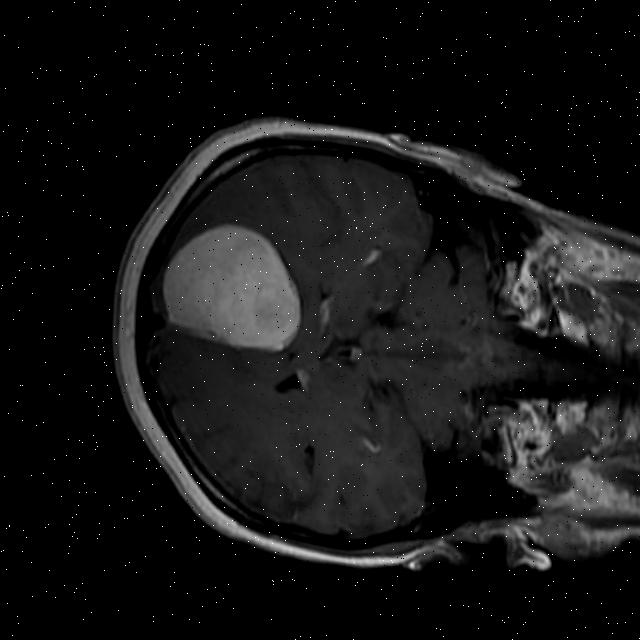Meningioma: (149, 210, 317, 360)
